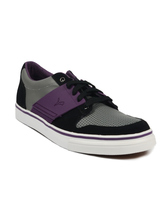shoes: (15, 59, 156, 160)
